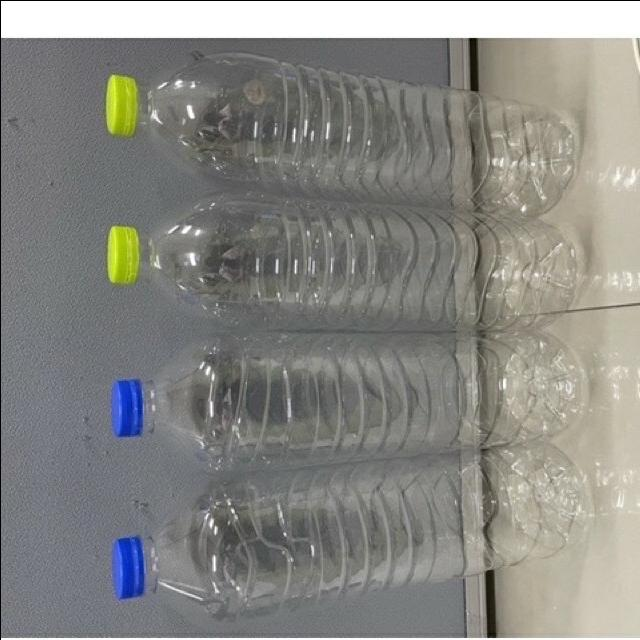plastik: (112, 442, 590, 616), (105, 52, 578, 214), (111, 330, 585, 471), (106, 194, 581, 329)
